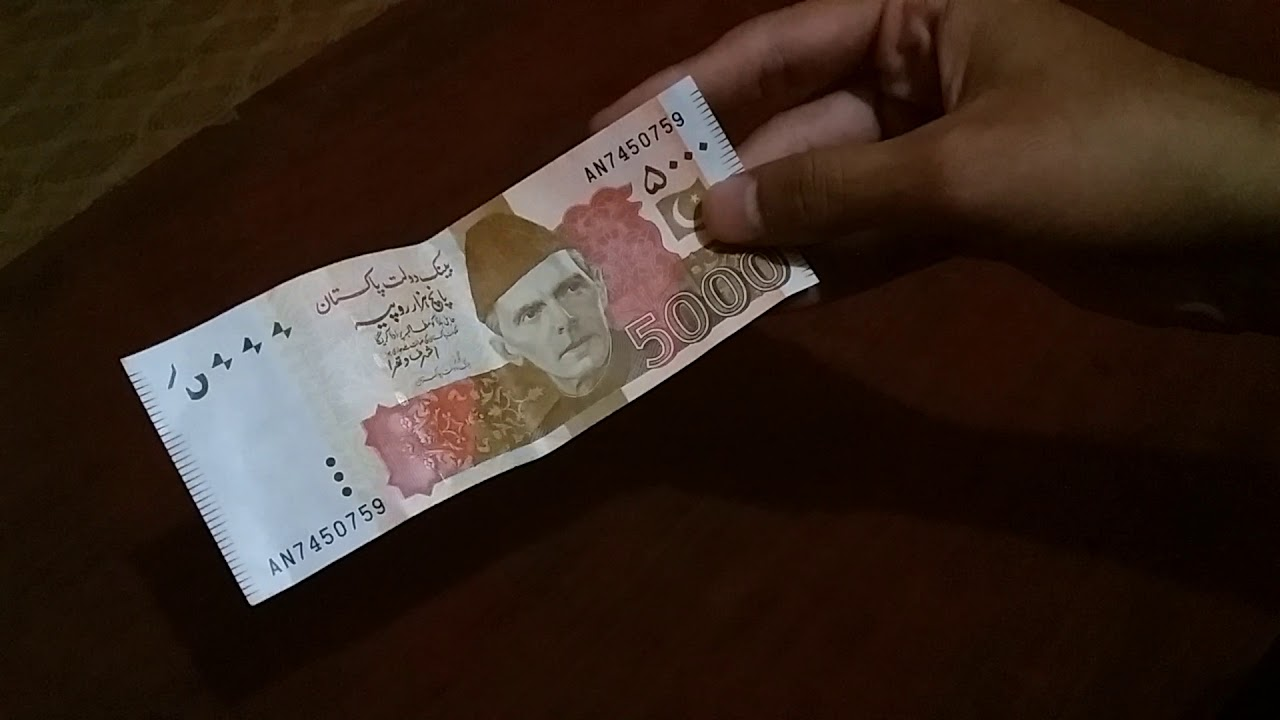5000 rupee: (85, 92, 889, 604)
